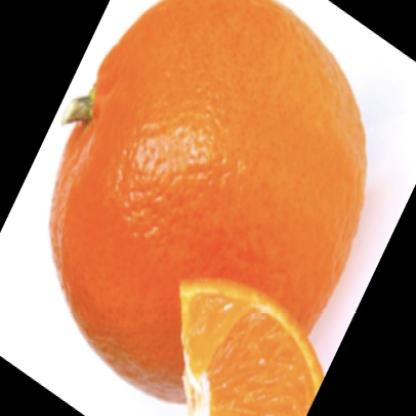fresh: (53, 1, 364, 416)
